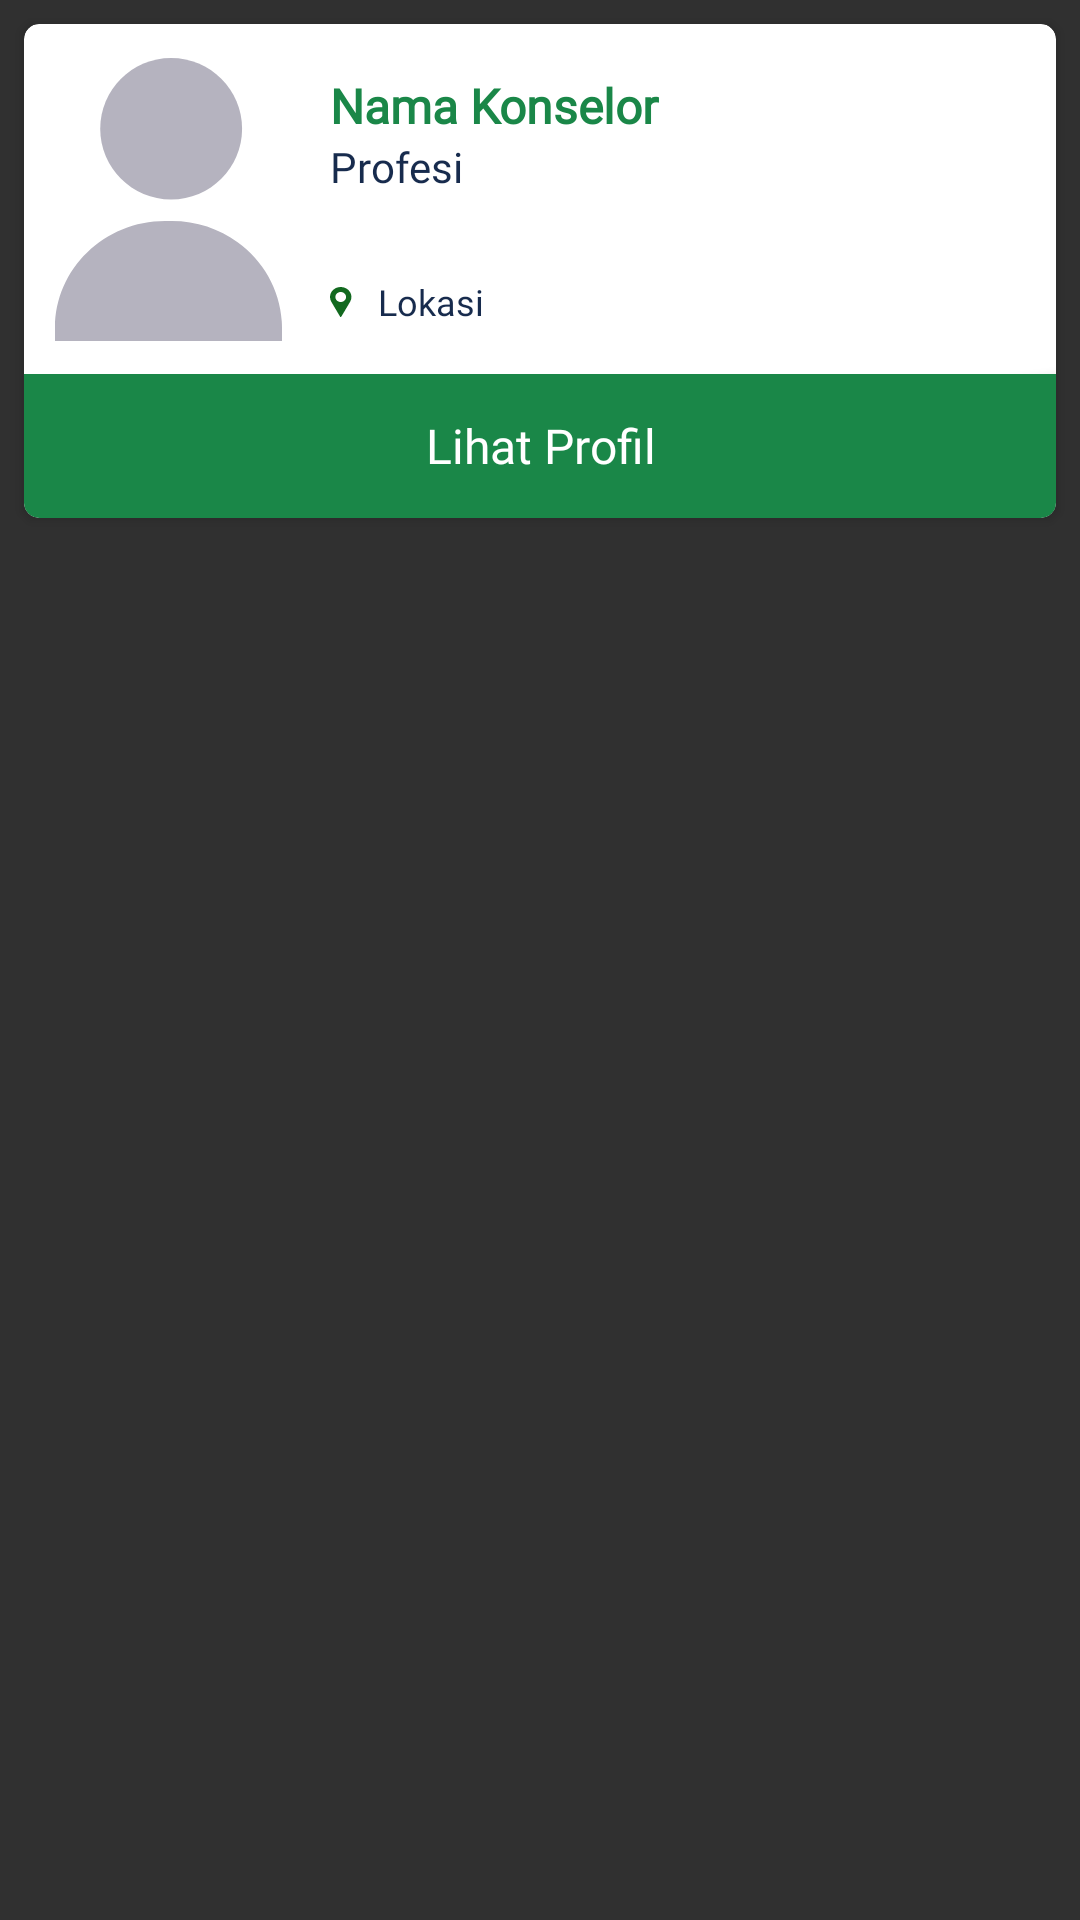

Where icons sit on this 1080px×1920px app screen, as Rect(x1, y1, x2, y2):
foto profil konselor: Rect(55, 58, 282, 341)
